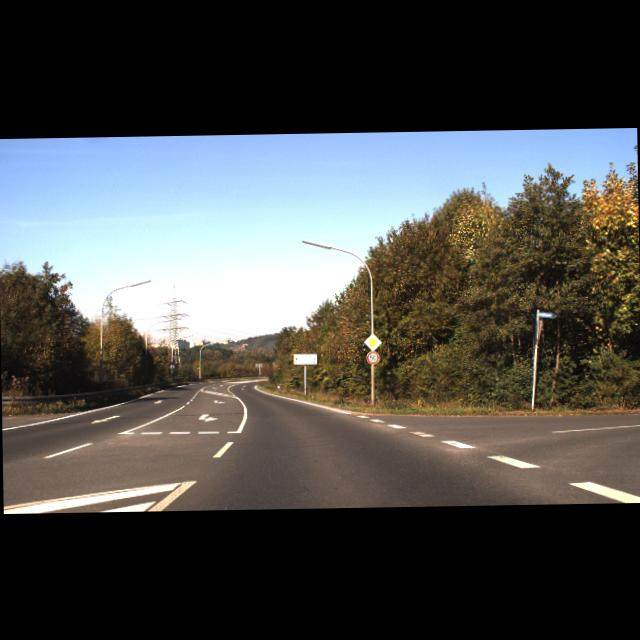other: (364, 332, 382, 350)
prohibitory: (366, 351, 379, 364)
